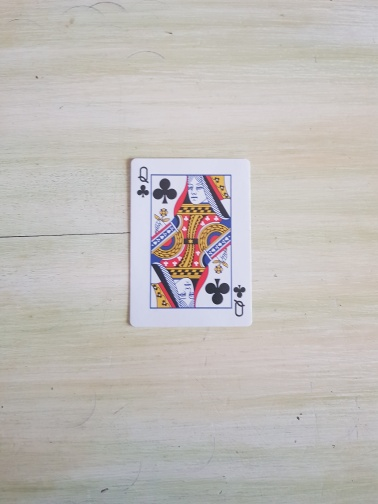queen: (130, 157, 253, 328)
